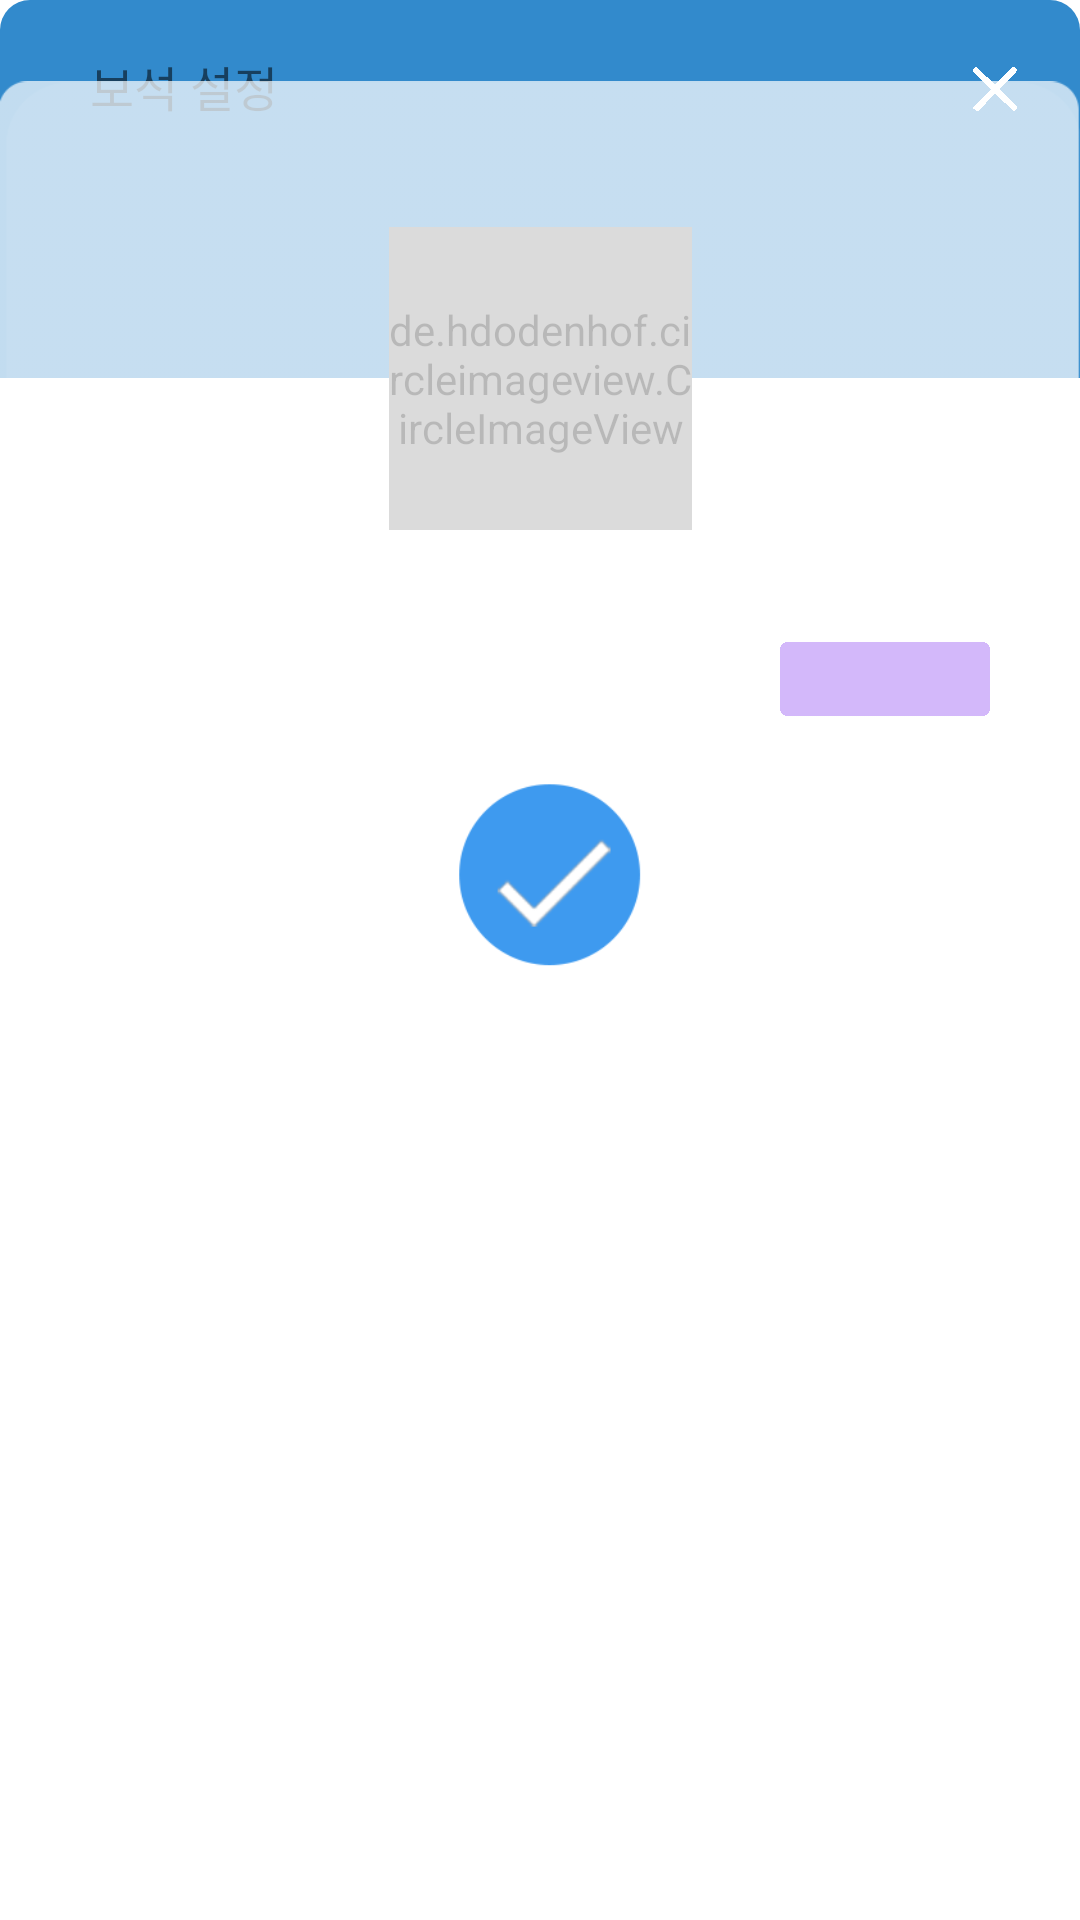

Point at icon controls on the screen. Image size 1080x1920, points as point (x, y).
ripple choice dialog cancel: point (997, 88)
